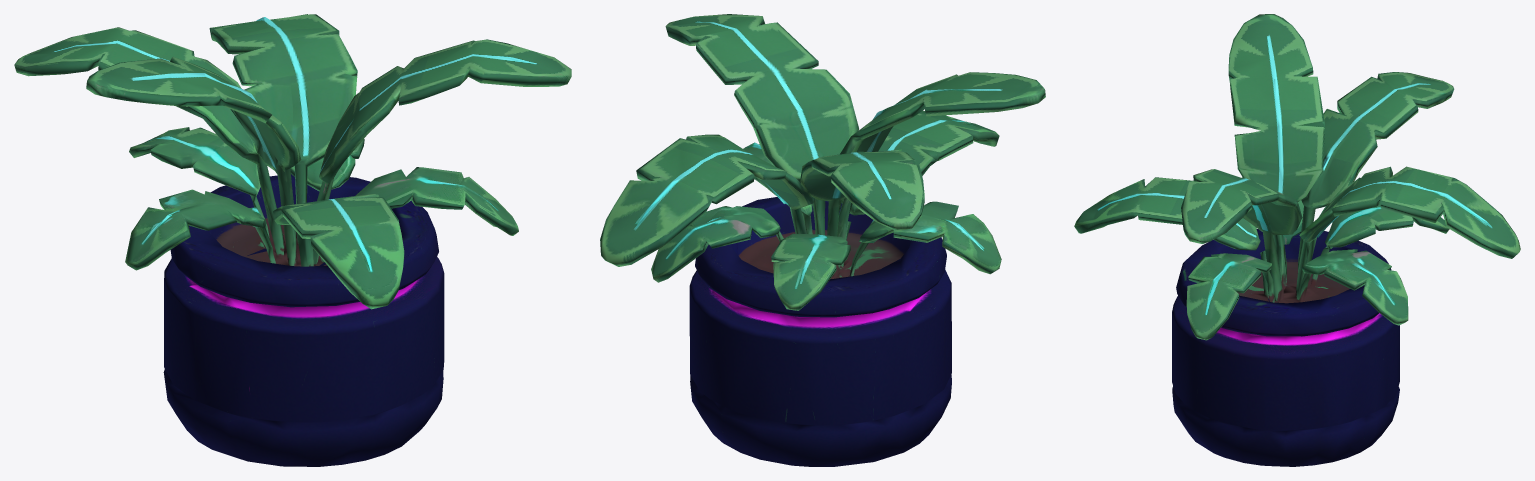
Rendered from maceta-planta.glb.
3 views of the same model, side by side, from view 1: azimuth 30°, elevation 25°; view 2: azimuth 150°, elevation 25°; view 3: azimuth 270°, elevation 25° (orthographic). The views are drawn at different scales.
Size of the model in its own units: 1.85 by 1.61 by 2.
1 material, 1 textured.
